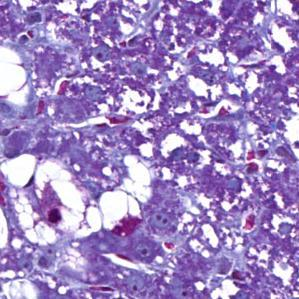ballooning: (4, 147, 156, 248)
